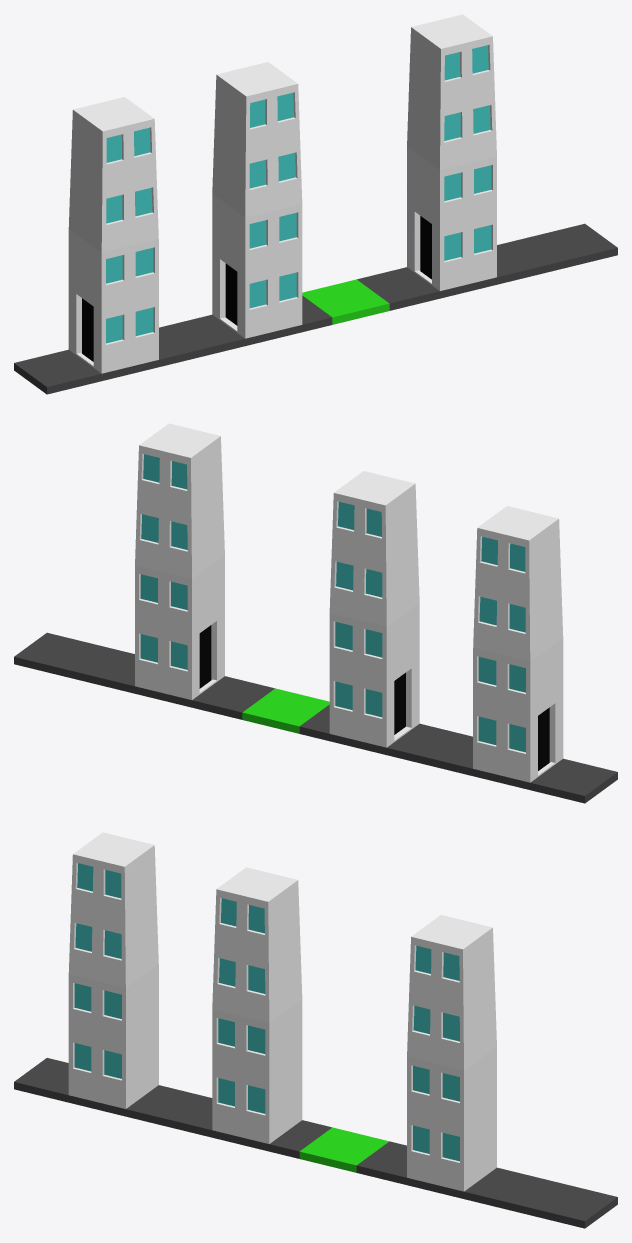
File: Platform2.fbx
The picture shows the model from 3 angles, top to bottom: view 1: azimuth 30°, elevation 25°; view 2: azimuth 150°, elevation 25°; view 3: azimuth 330°, elevation 25°; orthographic projection.
Visible parts, largest first — view 1: Building 2, Building 3, Building 1, Platform1Conc1, Platform1Conc2, Platform1Grass; view 2: Building 2, Building 3, Building 1, Platform1Conc1, Platform1Conc2, Platform1Grass; view 3: Building 2, Building 3, Building 1, Platform1Conc2, Platform1Conc1, Platform1Grass.
Boxes of the visible parts, bbox=[...] form: Building 2: bbox=[212, 62, 302, 338]; Building 3: bbox=[68, 97, 158, 373]; Building 1: bbox=[407, 14, 496, 290]; Platform1Conc1: bbox=[14, 295, 332, 394]; Platform1Conc2: bbox=[357, 223, 617, 310]; Platform1Grass: bbox=[302, 279, 389, 324]; Building 2: bbox=[329, 471, 419, 747]; Building 3: bbox=[473, 506, 563, 782]; Building 1: bbox=[135, 423, 224, 699]; Platform1Conc1: bbox=[299, 704, 617, 803]; Platform1Conc2: bbox=[14, 632, 274, 719]; Platform1Grass: bbox=[242, 688, 329, 733]; Building 2: bbox=[212, 867, 302, 1143]; Building 3: bbox=[68, 832, 158, 1108]; Building 1: bbox=[407, 915, 496, 1191]; Platform1Conc2: bbox=[356, 1141, 617, 1228]; Platform1Conc1: bbox=[14, 1058, 331, 1158]; Platform1Grass: bbox=[299, 1127, 388, 1172].
Size of the model in its own units: 2000 by 830 by 200.
